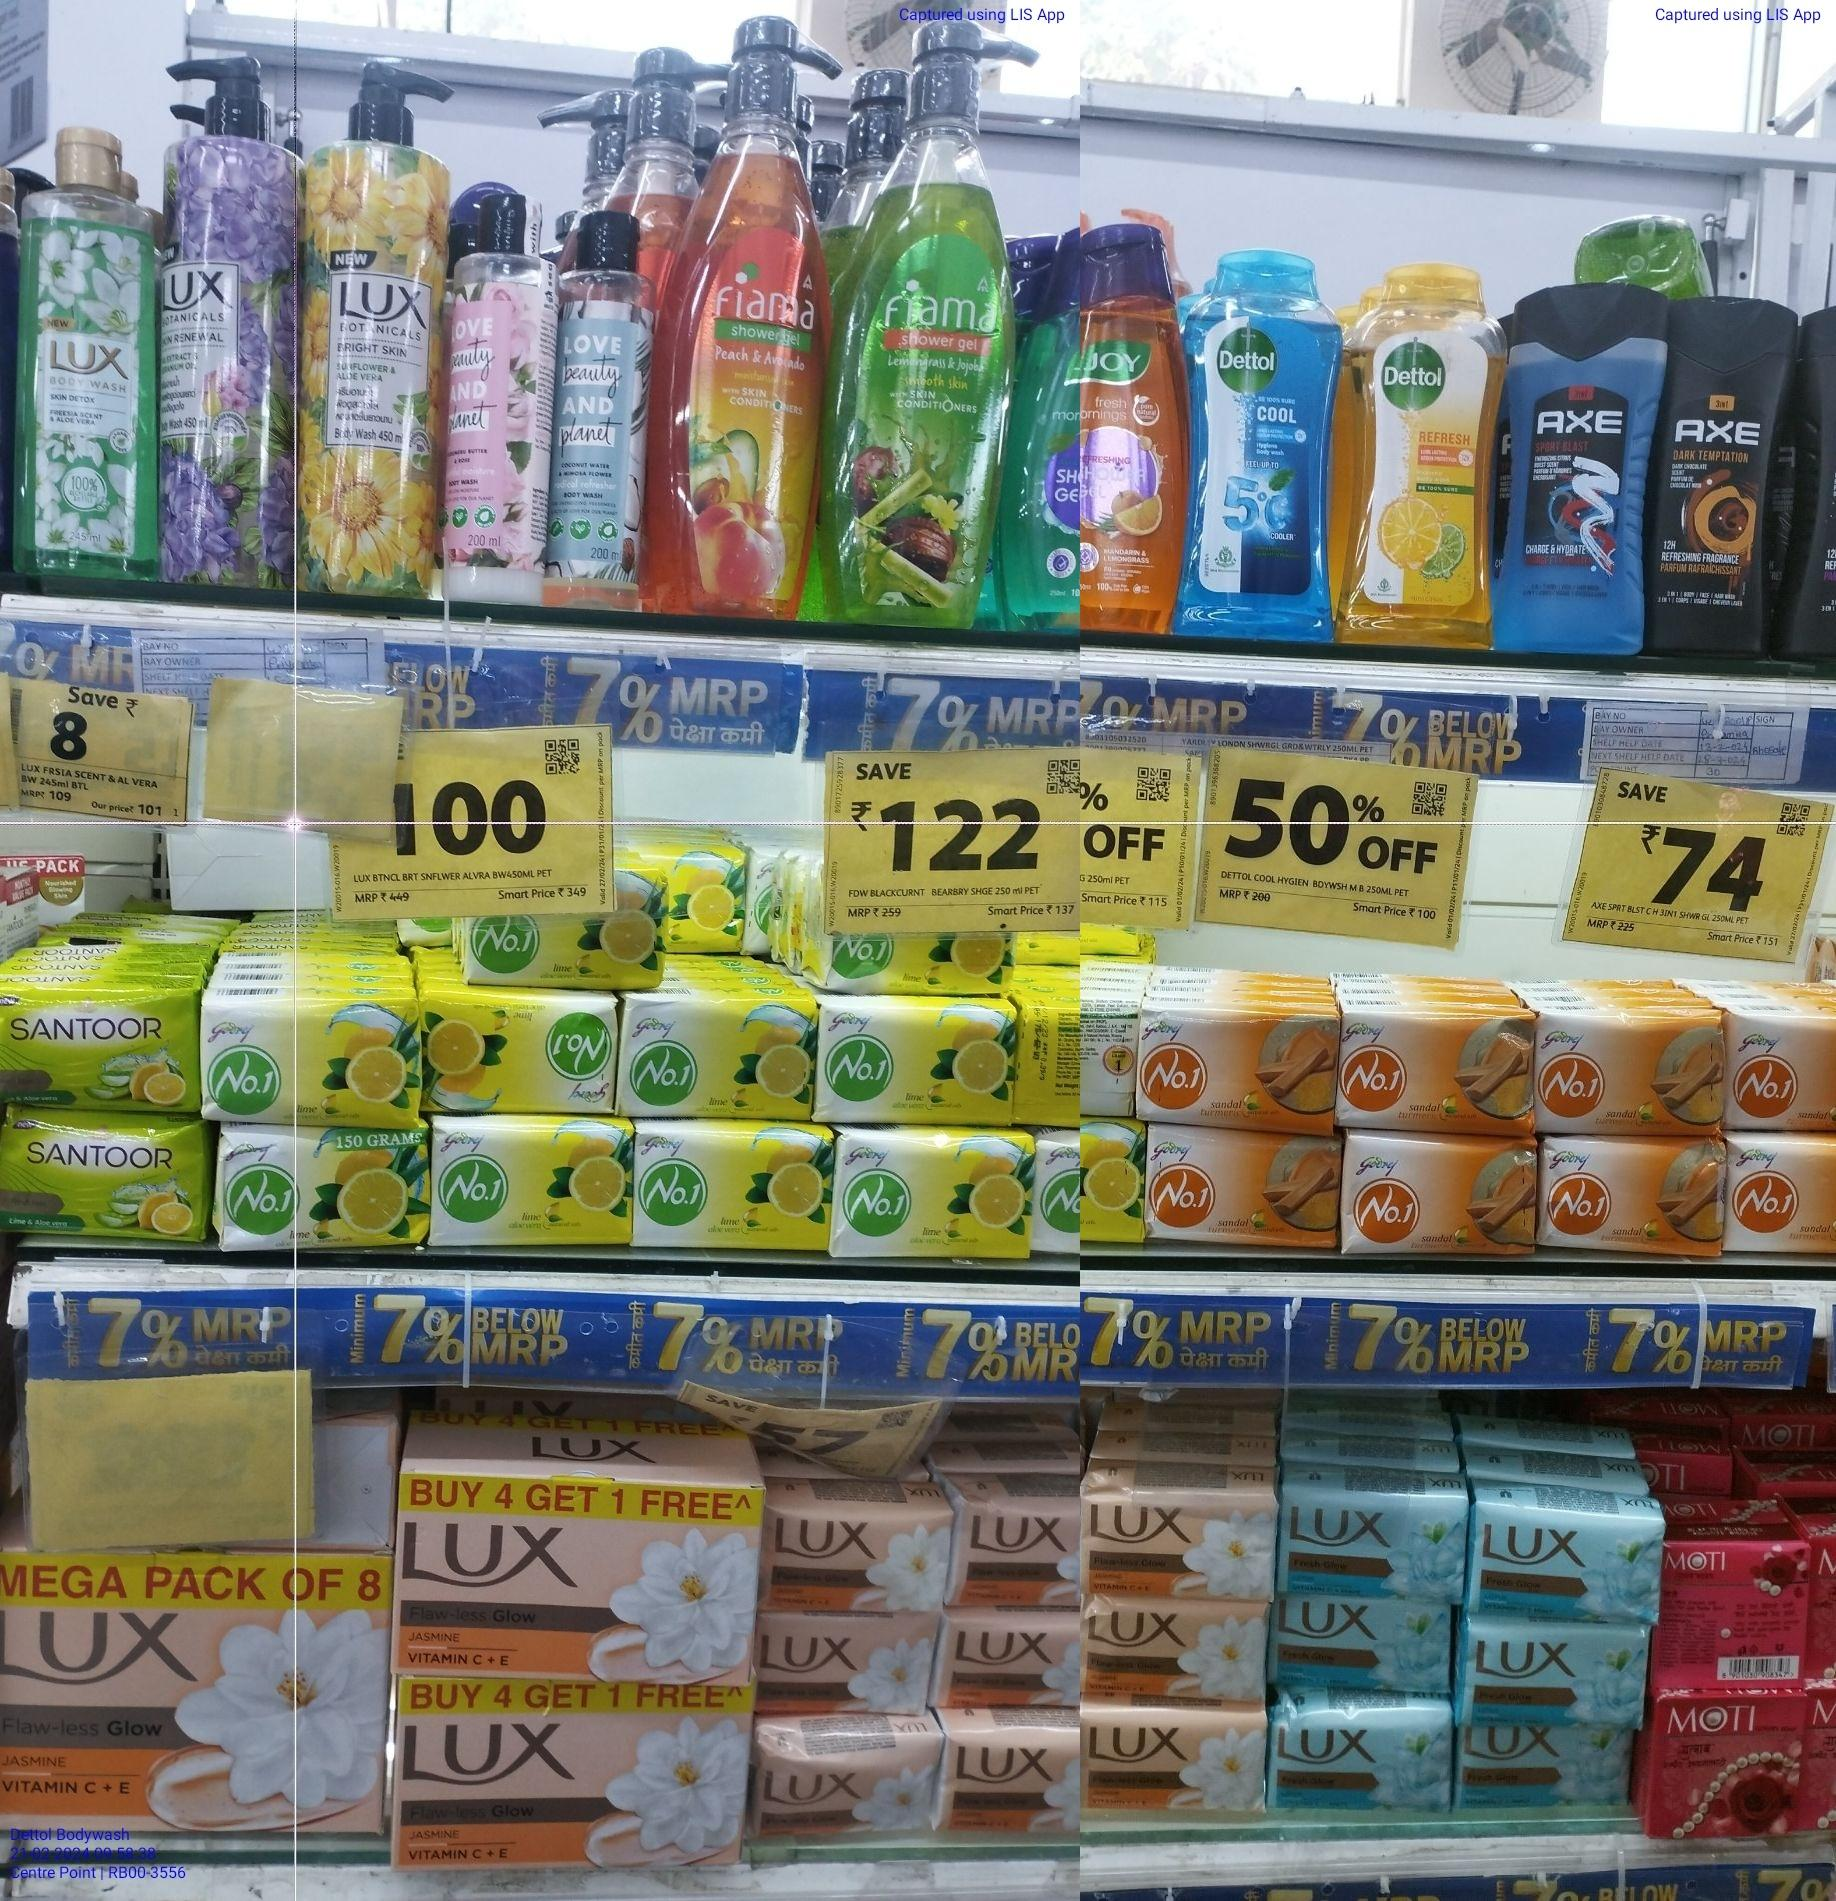Dettol_Bodywash_Cool: (1174, 244, 1347, 643)
Dettol_Bodywash_Refresh: (1347, 258, 1510, 638)
